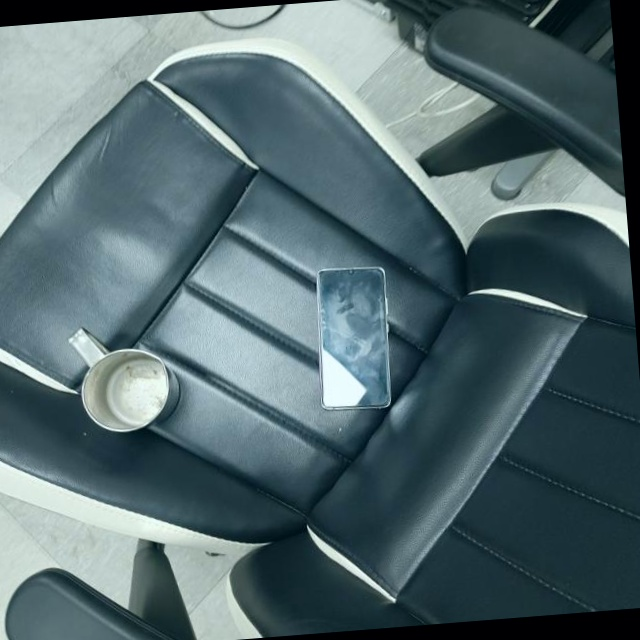cup: (66, 318, 184, 439)
phone: (310, 264, 395, 414)
